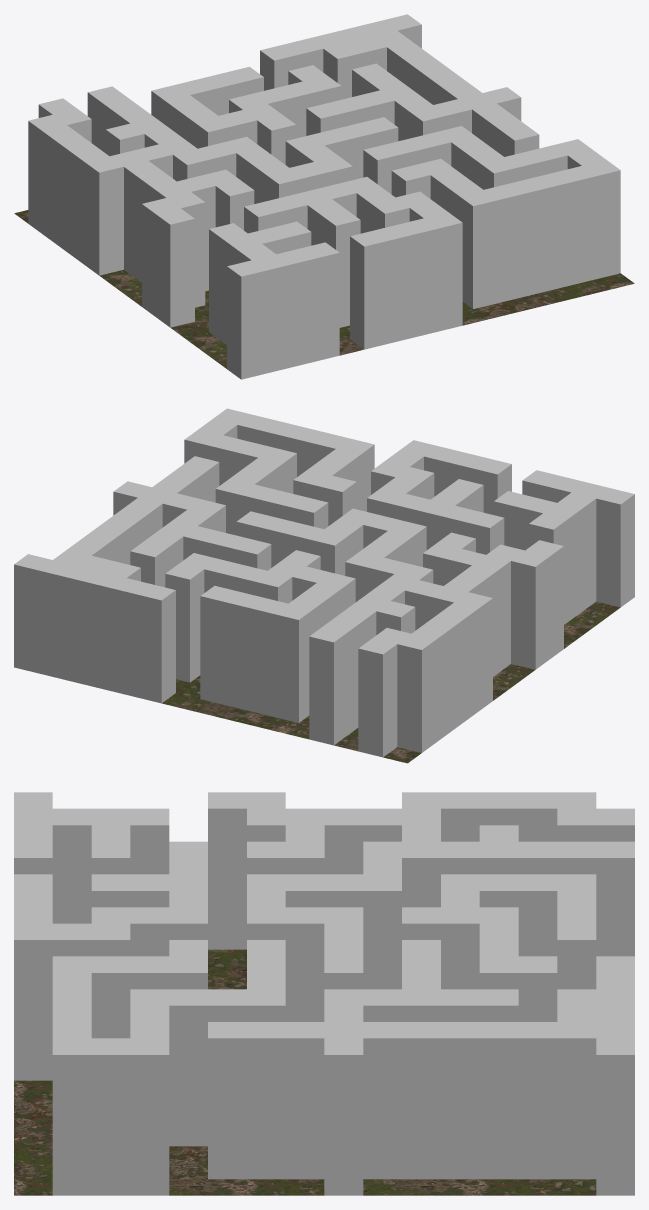
The model's file is Maze.fbx.
The picture shows the model from 3 angles, top to bottom: view 1: azimuth 30°, elevation 25°; view 2: azimuth 150°, elevation 25°; view 3: azimuth 270°, elevation 25°; orthographic projection. The views are drawn at different scales.
Parts seen in each view (by area): view 1: Maze; view 2: Maze; view 3: Maze.
Boxes of the visible parts, x1,y1,x2,y2 form: Maze: [14, 14, 634, 379]; Maze: [14, 408, 634, 763]; Maze: [14, 792, 634, 1195].
Size of the model in its own units: 1600 by 400 by 1600.
